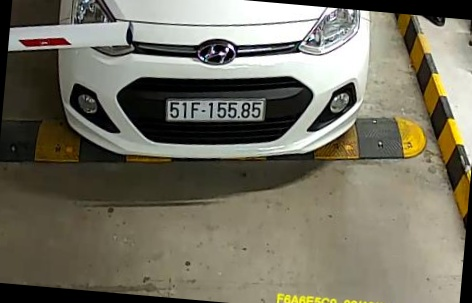plate: (161, 92, 267, 127)
